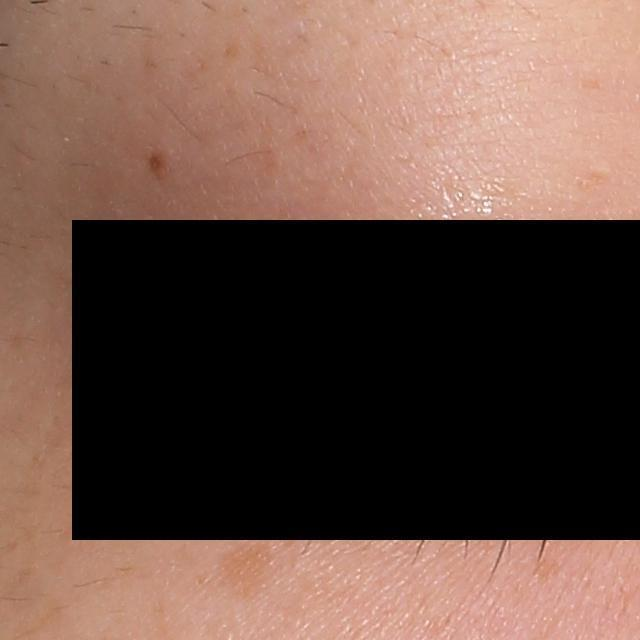melasma: (207, 541, 277, 599), (530, 554, 562, 585)
nevus: (149, 152, 168, 174)
